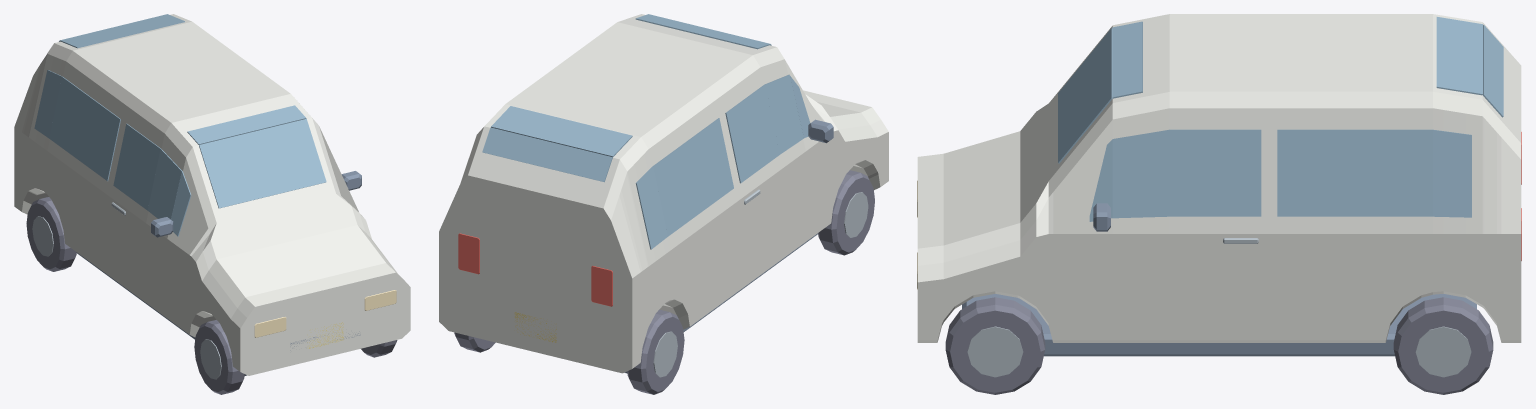
The model's file is HK_Kei_Tall.glb.
The picture shows the model from 3 angles, left to right: view 1: azimuth 30°, elevation 25°; view 2: azimuth 150°, elevation 25°; view 3: azimuth 270°, elevation 25°; orthographic projection. The views are drawn at different scales.
Parts seen in each view (by area): view 1: HK_Kei_Tall_BodyMain, HK_Kei_Tall_Glass, HK_Kei_Tall_Tire_FR, HK_Kei_Tall_Tire_RR, HK_Kei_Tall_Tire_FL; view 2: HK_Kei_Tall_BodyMain, HK_Kei_Tall_Glass, HK_Kei_Tall_Tire_RR, HK_Kei_Tall_Tire_FR, HK_Kei_Tall_Tire_RL; view 3: HK_Kei_Tall_BodyMain, HK_Kei_Tall_Glass, HK_Kei_Tall_Tire_FL, HK_Kei_Tall_Tire_RL.
Boxes of the visible parts, x1=… form: HK_Kei_Tall_BodyMain: x1=14, y1=14, x2=410, y2=375; HK_Kei_Tall_Glass: x1=34, y1=14, x2=326, y2=236; HK_Kei_Tall_Tire_FR: x1=194, y1=320, x2=244, y2=394; HK_Kei_Tall_Tire_RR: x1=26, y1=197, x2=76, y2=271; HK_Kei_Tall_Tire_FL: x1=361, y1=340, x2=397, y2=357; HK_Kei_Tall_BodyMain: x1=439, y1=14, x2=888, y2=373; HK_Kei_Tall_Glass: x1=482, y1=14, x2=810, y2=249; HK_Kei_Tall_Tire_RR: x1=627, y1=309, x2=684, y2=394; HK_Kei_Tall_Tire_FR: x1=818, y1=170, x2=874, y2=255; HK_Kei_Tall_Tire_RL: x1=454, y1=332, x2=495, y2=352; HK_Kei_Tall_BodyMain: x1=917, y1=14, x2=1521, y2=356; HK_Kei_Tall_Glass: x1=1058, y1=17, x2=1503, y2=221; HK_Kei_Tall_Tire_FL: x1=945, y1=297, x2=1045, y2=394; HK_Kei_Tall_Tire_RL: x1=1393, y1=297, x2=1493, y2=394.
Bounding box in the file's own units: 1.79 × 1.8 × 3.4.
